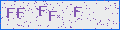F: (73, 6, 82, 17), (48, 11, 57, 21), (7, 8, 15, 18), (17, 8, 25, 18), (39, 6, 47, 16)
